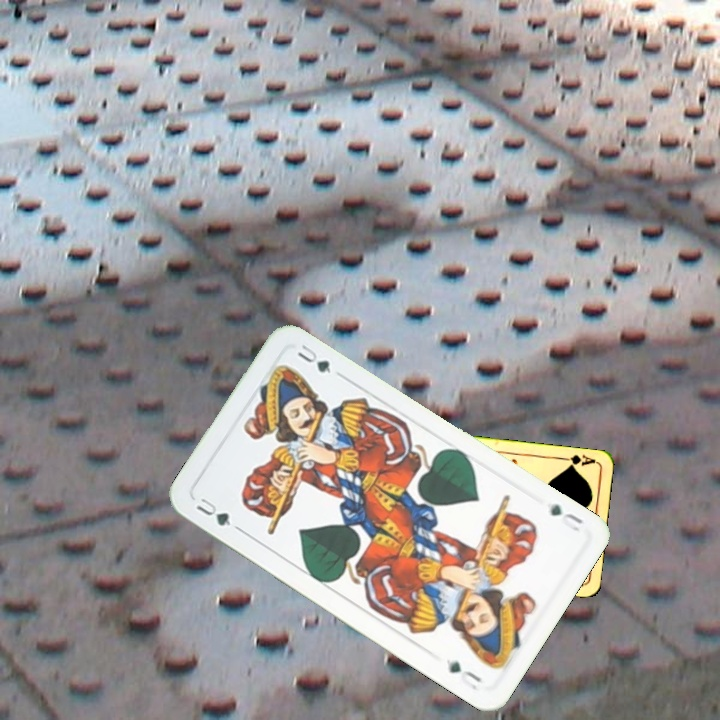GA: (557, 450, 598, 470)
GU: (192, 493, 243, 533), (546, 499, 586, 534)
